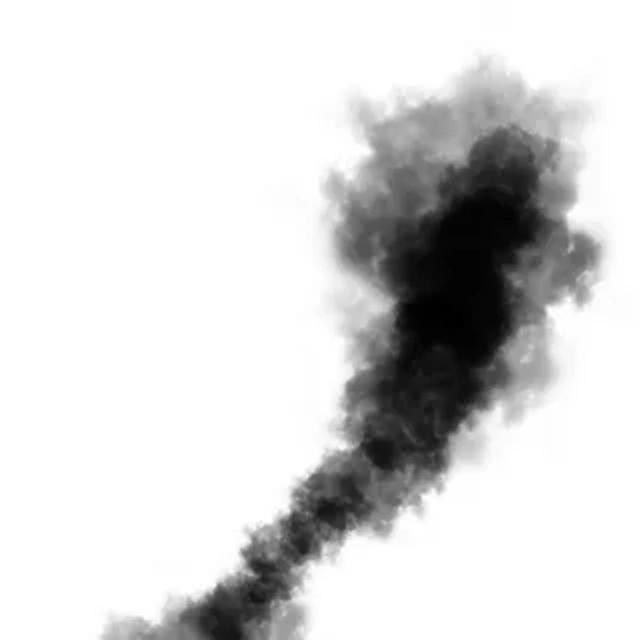Smoke: (104, 53, 604, 626)
